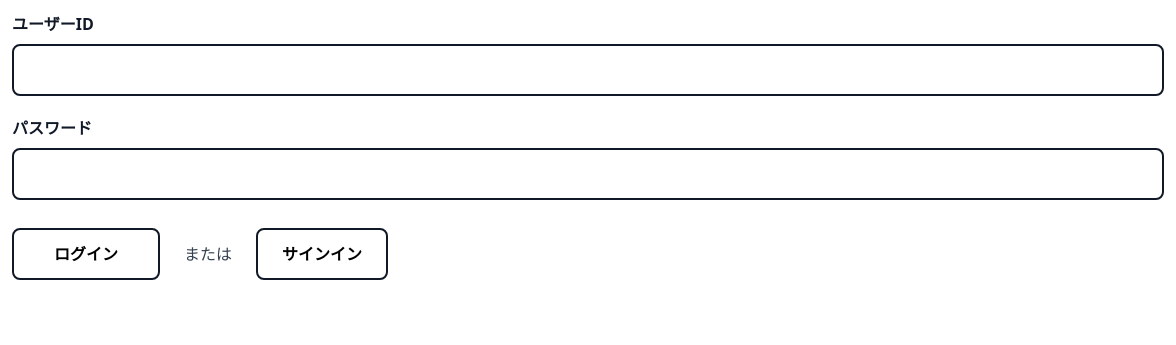
it: LoginForm › 入力違反では欄ごとのエラーをaria属性で入力欄に関連付ける
Click the button "ログイン".
click(86, 254)  # box [12, 228, 160, 280]
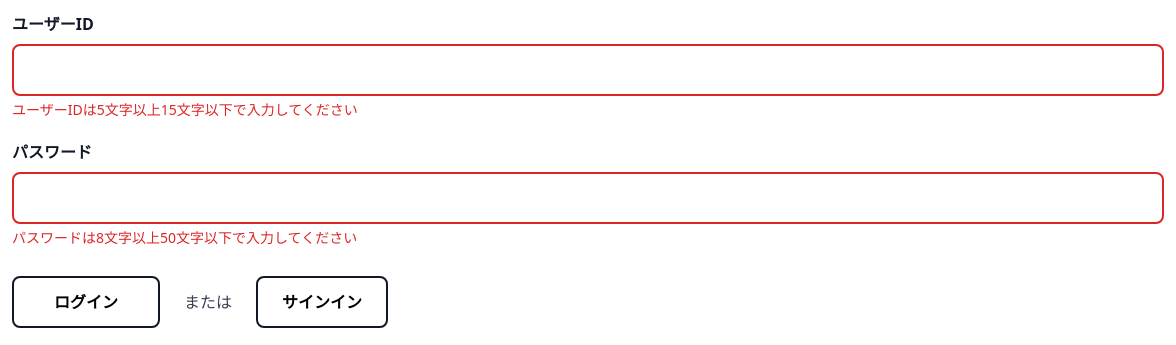
Expected: the list "ユーザーIDは5文字以上15文字以下で入力してください" is shown, [12, 100, 358, 119]
Expected: the list "パスワードは8文字以上50文字以下で入力してください" is shown, [12, 228, 357, 247]
